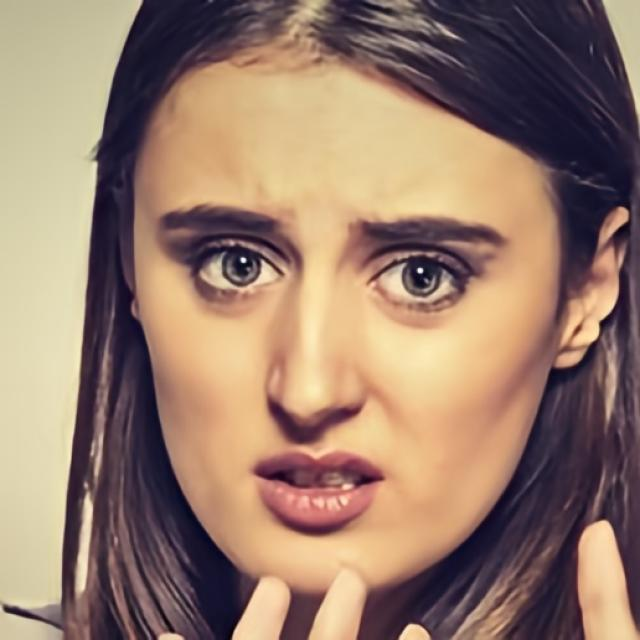disgust: (132, 31, 564, 598)
